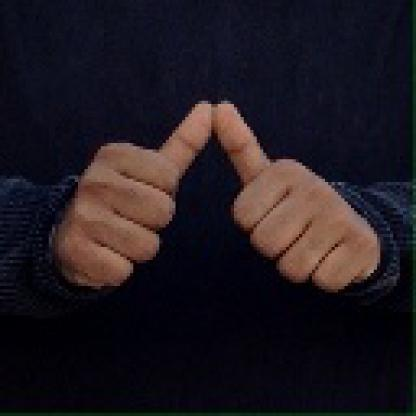A: (39, 96, 382, 296)
